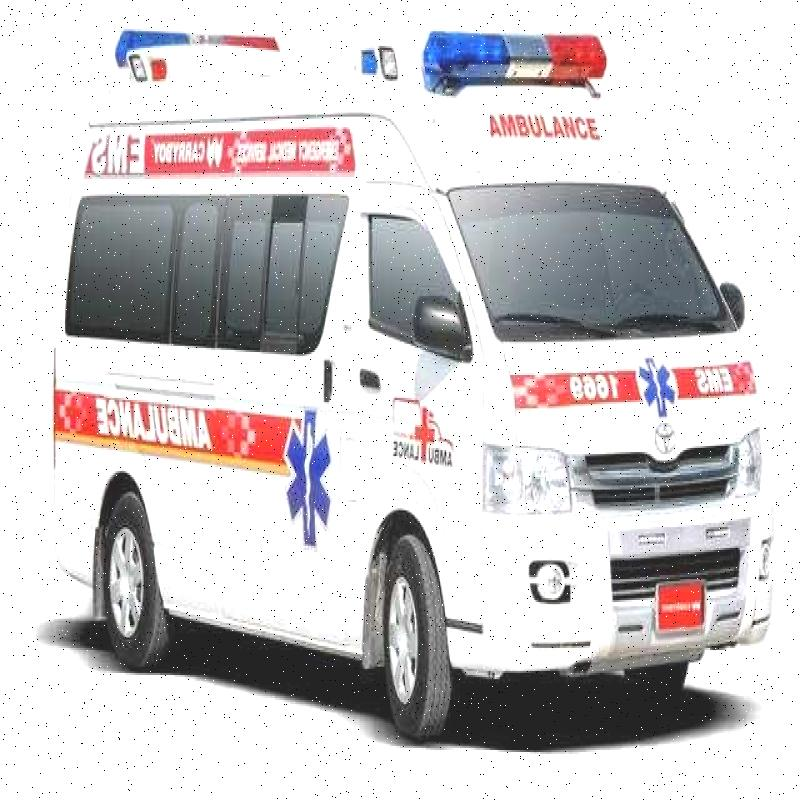AmbulanceSiren: (411, 17, 622, 110)
ambulance: (0, 6, 769, 730)
